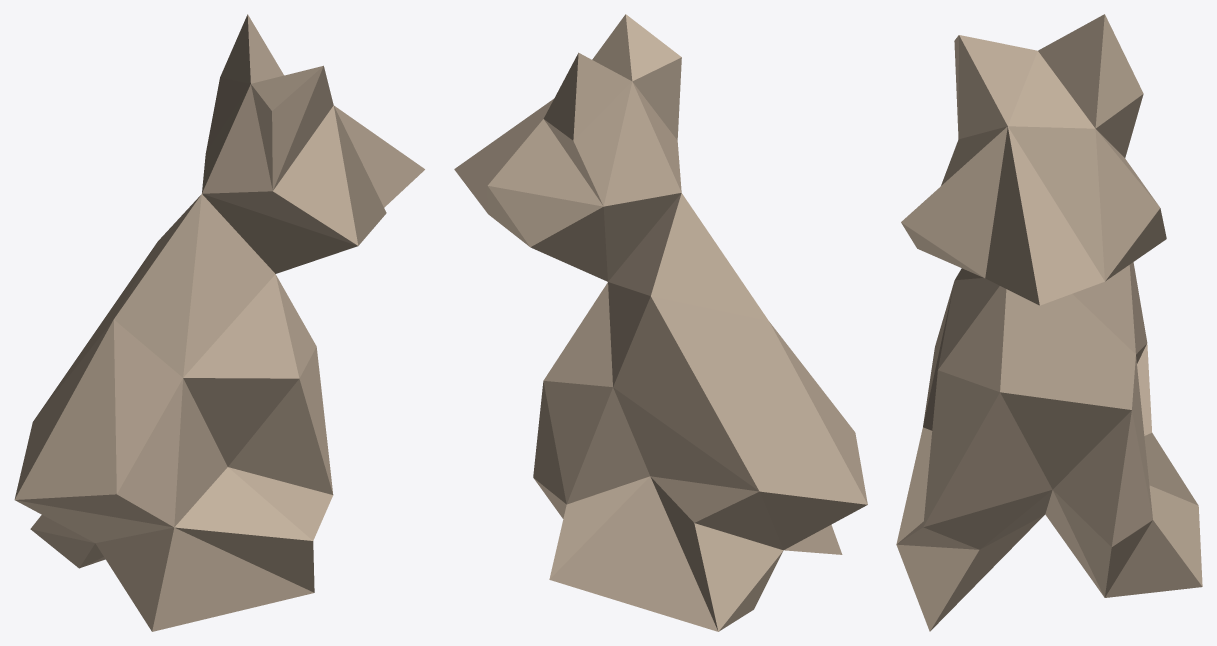
3 renders of one model, left to right at view 1: azimuth 30°, elevation 25°; view 2: azimuth 150°, elevation 25°; view 3: azimuth 270°, elevation 25°, orthographic. The views are drawn at different scales.
Parts seen in each view (by area): view 1: part0; view 2: part0; view 3: part0.
Boxes of the visible parts, bbox=[...] form: part0: bbox=[14, 14, 424, 631]; part0: bbox=[454, 14, 867, 631]; part0: bbox=[896, 14, 1202, 631].
Bounding box in the file's own units: 6.2 × 7.56 × 3.38.
